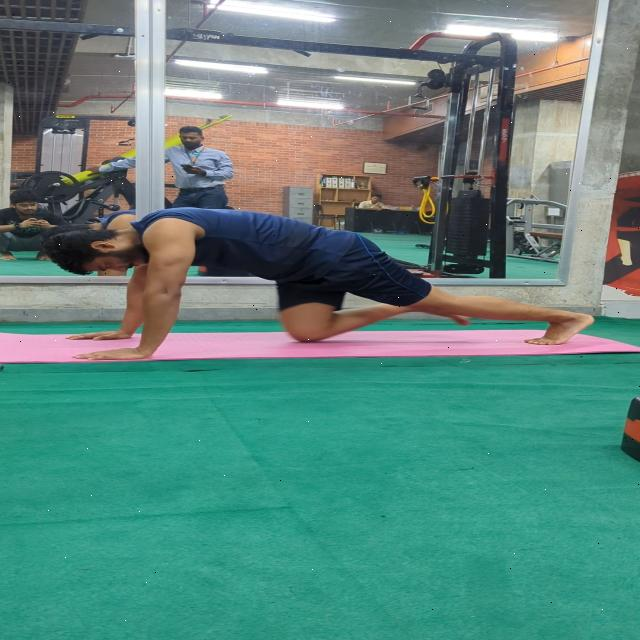Normal_MountainClimbers: (26, 196, 612, 360)
